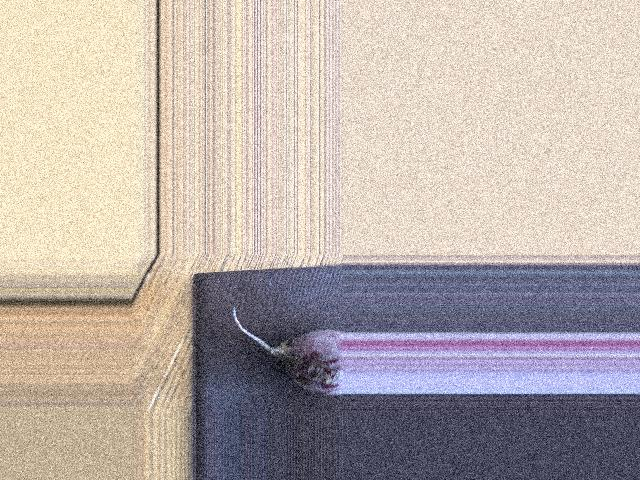beet: (232, 307, 342, 395)
